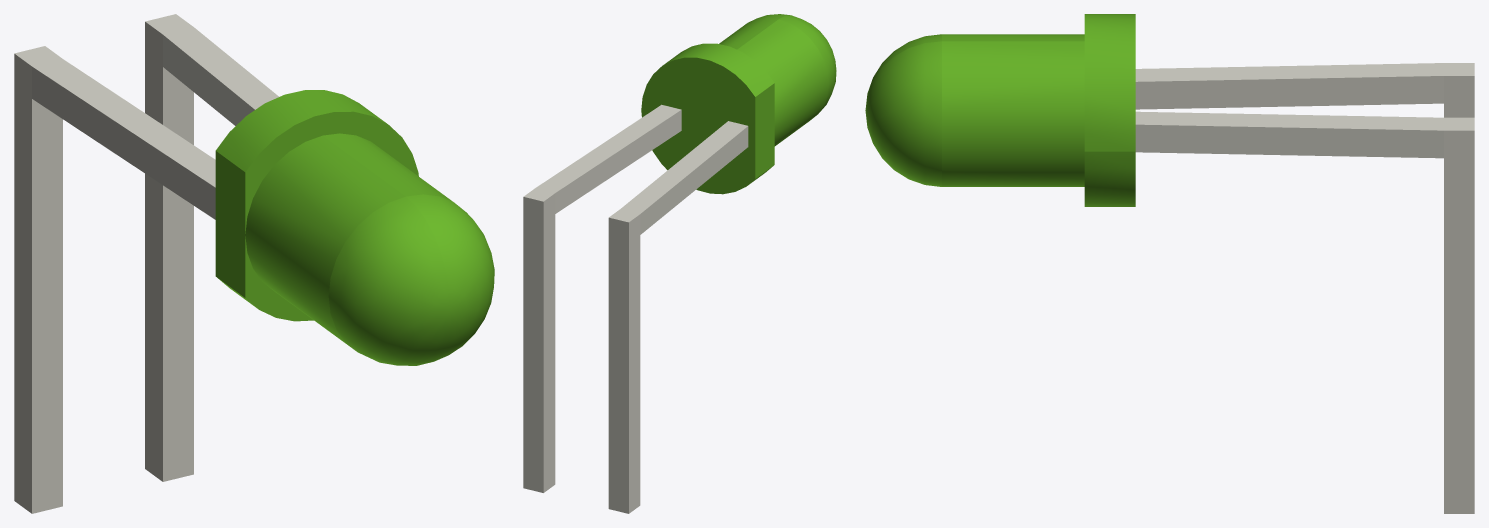
The model's file is kc-led_d3.0mm_horizontal_o6.35mm_z6.0mm.glb.
3 renders of one model, left to right at view 1: azimuth 30°, elevation 25°; view 2: azimuth 150°, elevation 25°; view 3: azimuth 270°, elevation 25°, orthographic. The views are drawn at different scales.
Visible parts, largest first — view 1: 0.6666666666666666_0.6666666666666666_0.5833333333333334_0.8, 0.16666666666666666_0.4166666666666667_0_0; view 2: 0.6666666666666666_0.6666666666666666_0.5833333333333334_0.8, 0.16666666666666666_0.4166666666666667_0_0; view 3: 0.16666666666666666_0.4166666666666667_0_0, 0.6666666666666666_0.6666666666666666_0.5833333333333334_0.8.
Boxes of the visible parts, x1,y1,x2,y2 form: 0.6666666666666666_0.6666666666666666_0.5833333333333334_0.8: [14, 14, 278, 513]; 0.16666666666666666_0.4166666666666667_0_0: [215, 90, 494, 365]; 0.6666666666666666_0.6666666666666666_0.5833333333333334_0.8: [523, 104, 748, 513]; 0.16666666666666666_0.4166666666666667_0_0: [641, 14, 836, 194]; 0.16666666666666666_0.4166666666666667_0_0: [865, 14, 1135, 206]; 0.6666666666666666_0.6666666666666666_0.5833333333333334_0.8: [1135, 63, 1474, 513].
Bounding box in the file's own units: 0.347 × 0.9894 × 1.2.
